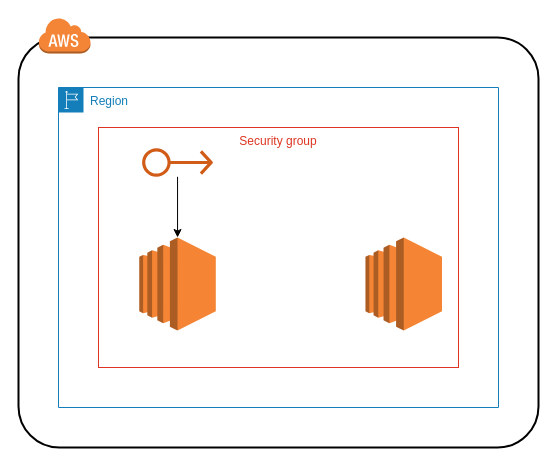
Image size: 556x466. Some labels were removed from this diagram. The centre of each missing label's shape, as x and y in pixels:
"Private DBServer" goes at [403,283].
"Public Web server" goes at [177,283].
